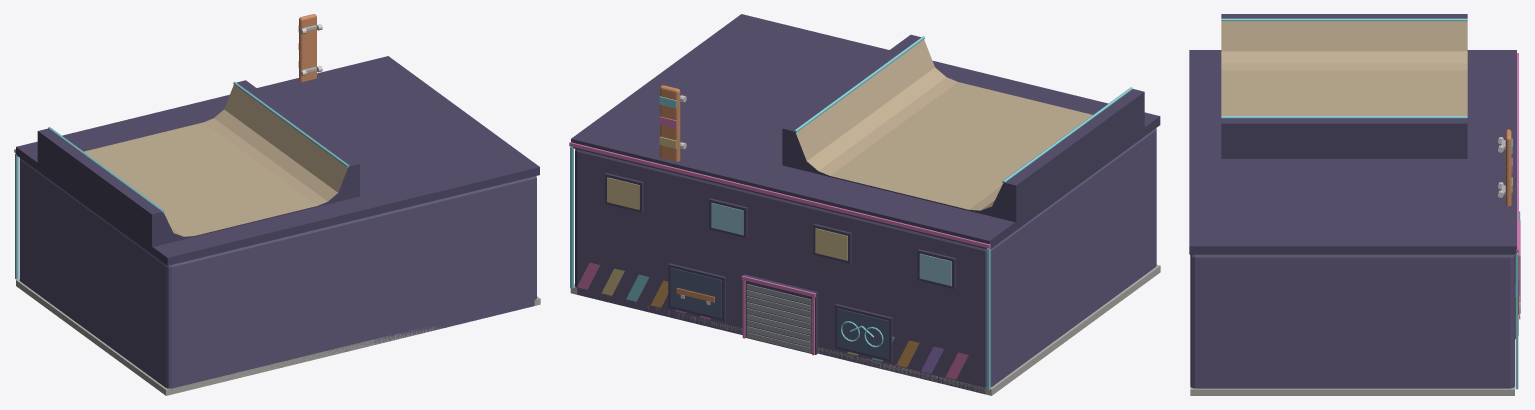
The model's file is centro-noturno-b5e93554.glb.
3 renders of one model, left to right at view 1: azimuth 30°, elevation 25°; view 2: azimuth 150°, elevation 25°; view 3: azimuth 270°, elevation 25°, orthographic. The views are drawn at different scales.
Size of the model in its own units: 19.7 by 10.15 by 13.99.
